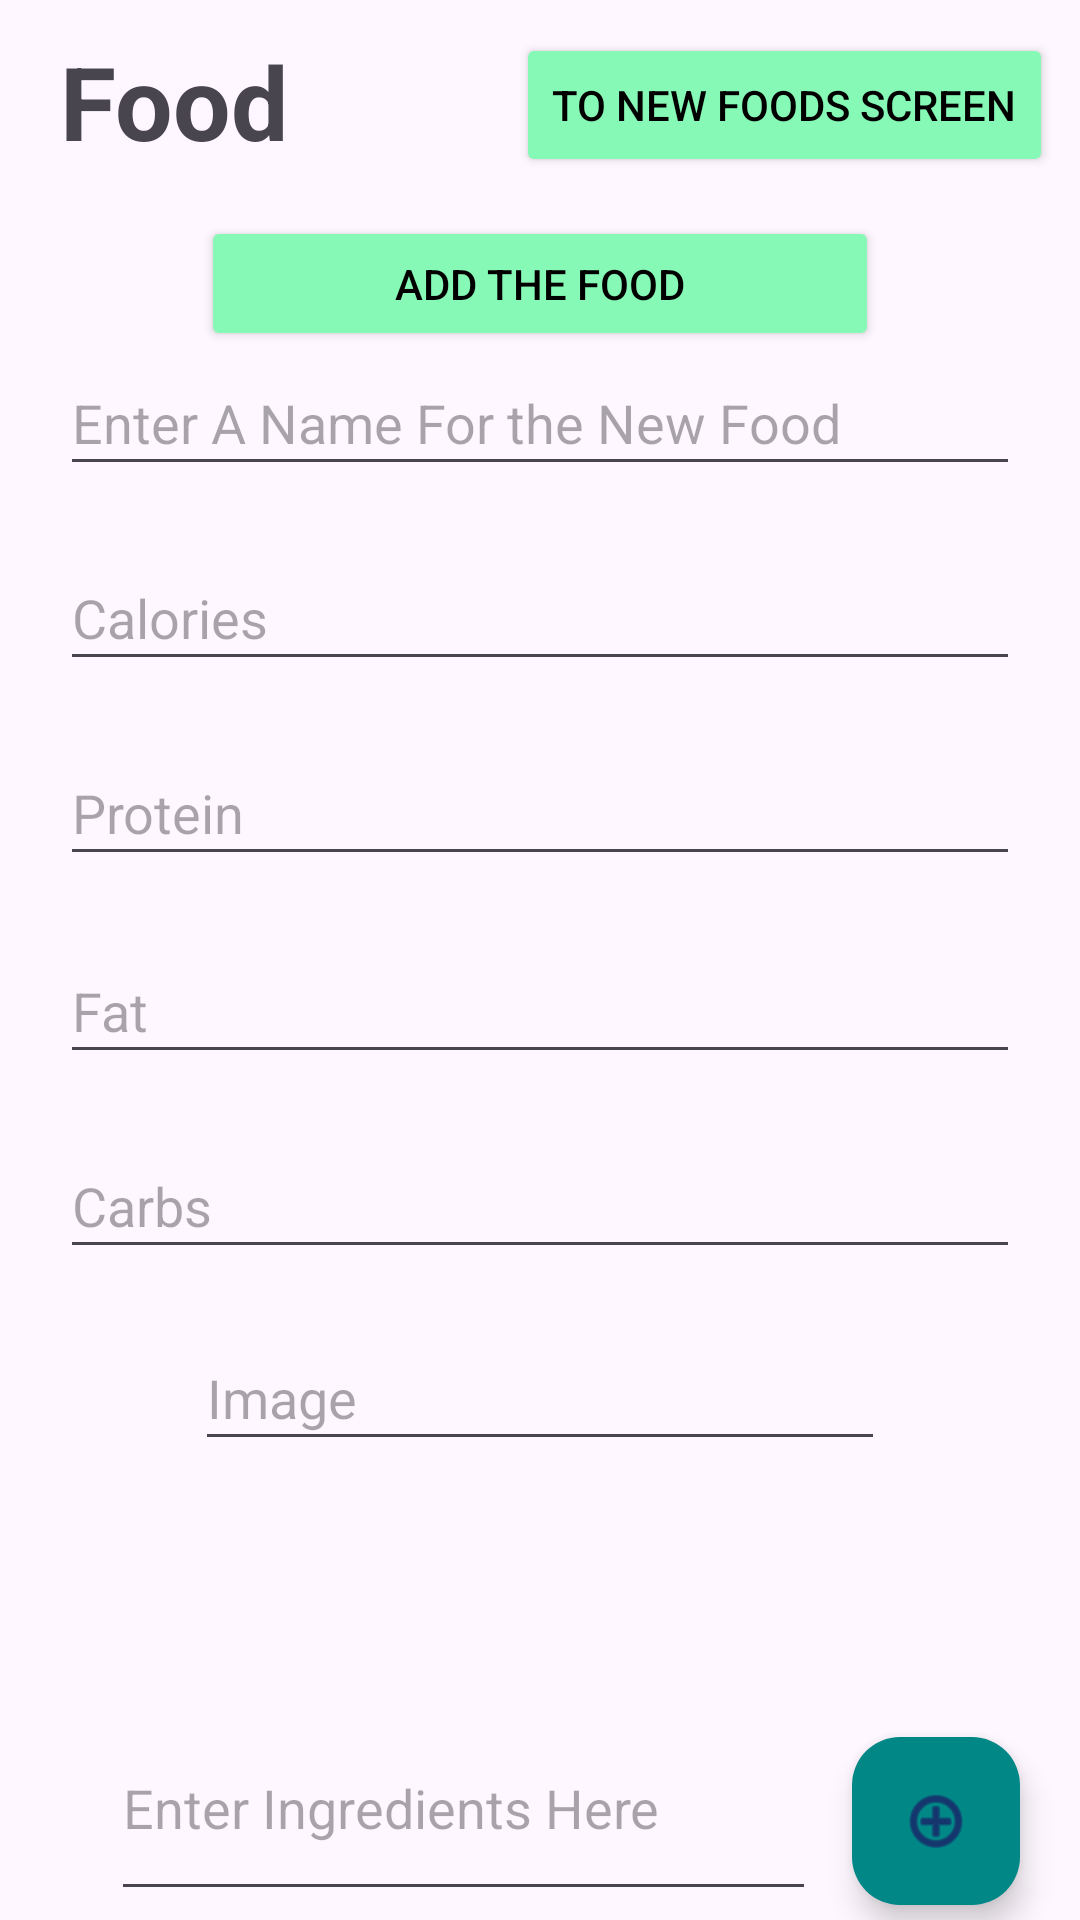

Named icons in this screenshot (1080px x 1920px) and their centers, (x=x, y=y):
add: (x=936, y=1821)
